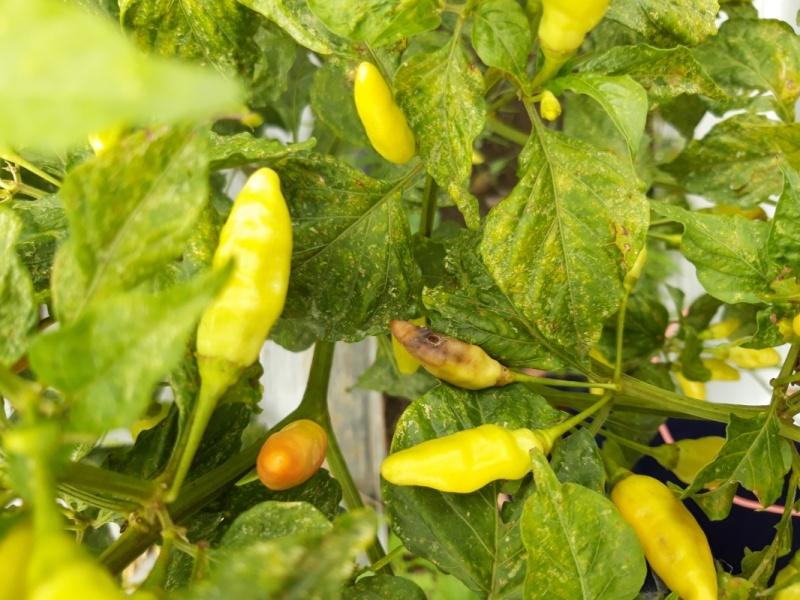cabai_normal: (194, 169, 294, 367), (614, 475, 719, 600), (381, 425, 543, 496), (355, 59, 415, 164), (257, 415, 329, 491), (541, 1, 606, 50)
lalat_buah: (391, 321, 505, 392)
